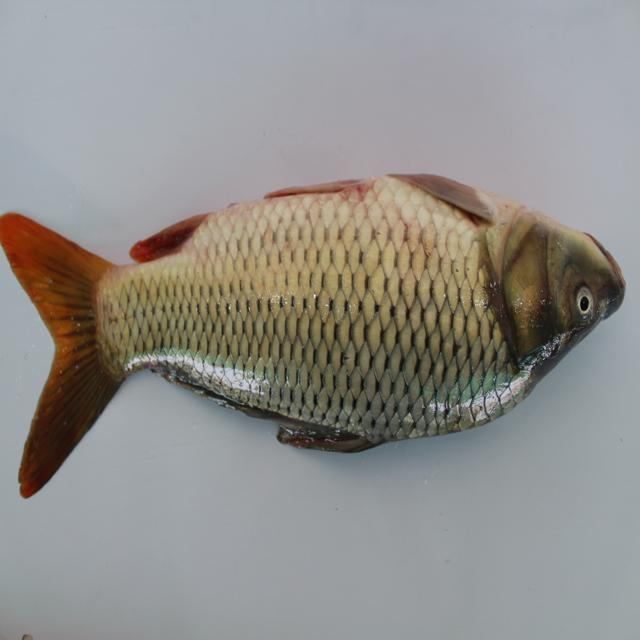CommonCarp: (2, 166, 623, 511)
